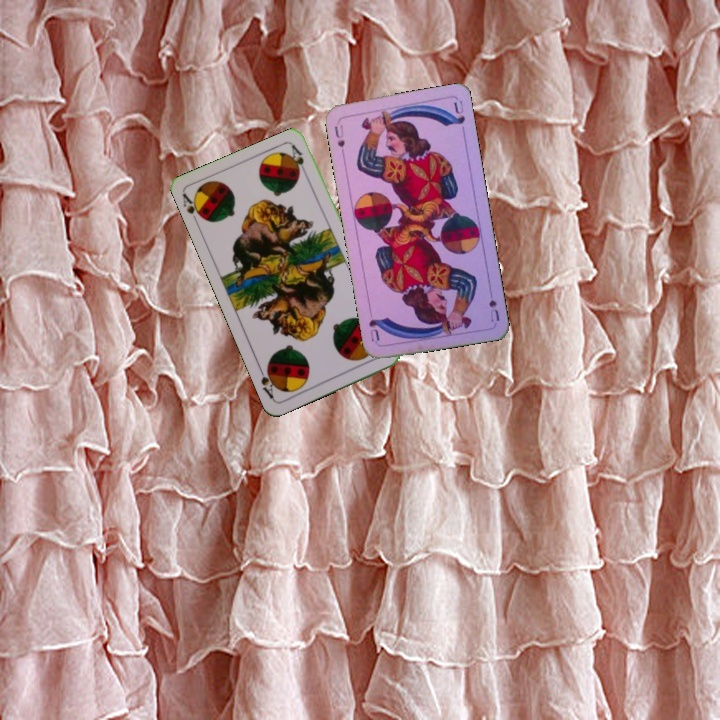SA: (178, 190, 208, 228)
SU: (485, 284, 502, 325), (330, 121, 347, 158)
